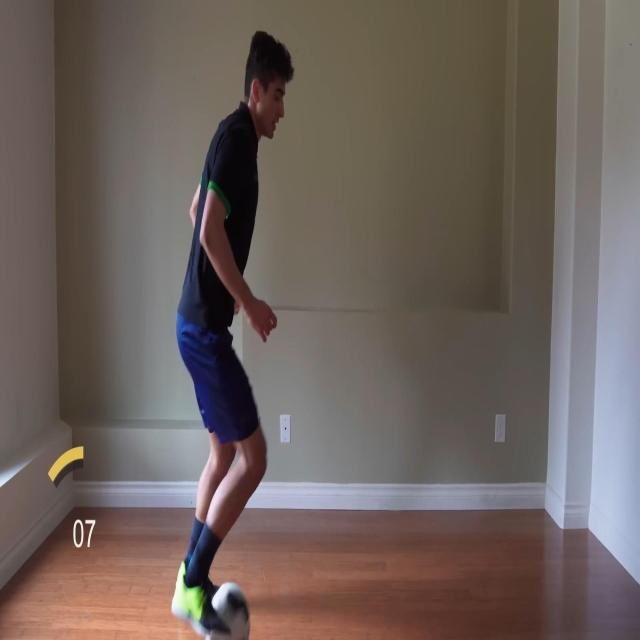Soccer Ball: (205, 581, 250, 640)
